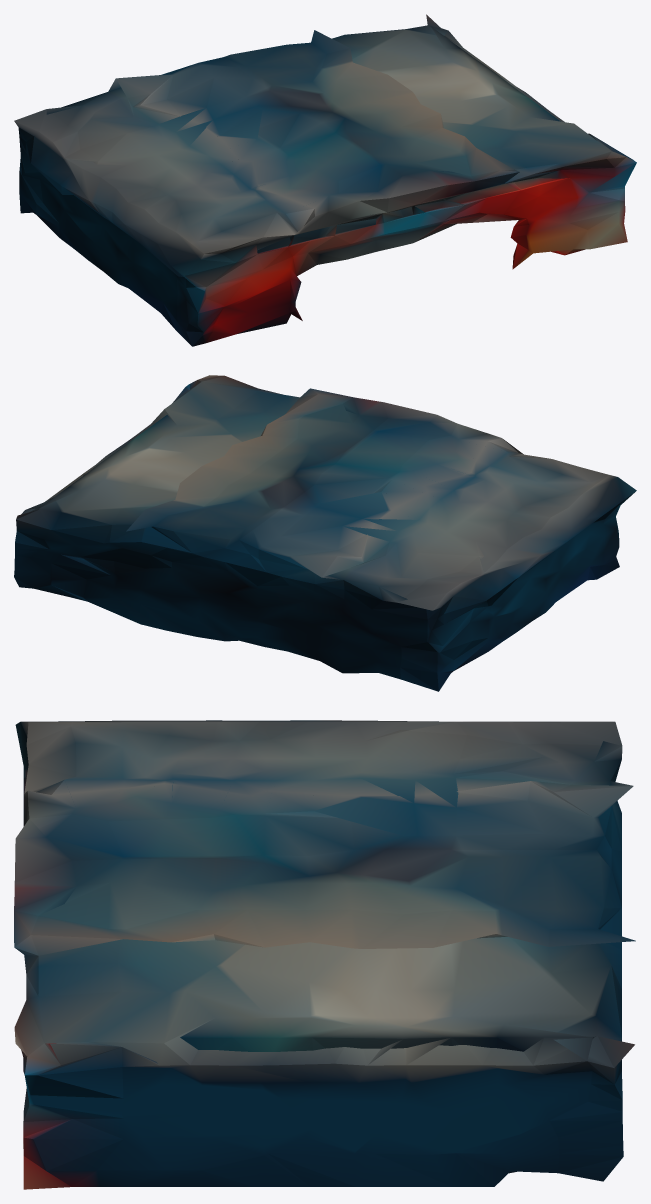
The picture shows the model from 3 angles, top to bottom: view 1: azimuth 30°, elevation 25°; view 2: azimuth 150°, elevation 25°; view 3: azimuth 270°, elevation 25°; orthographic projection. The views are drawn at different scales.
Bounding box in the file's own units: 40 × 9 × 30.
